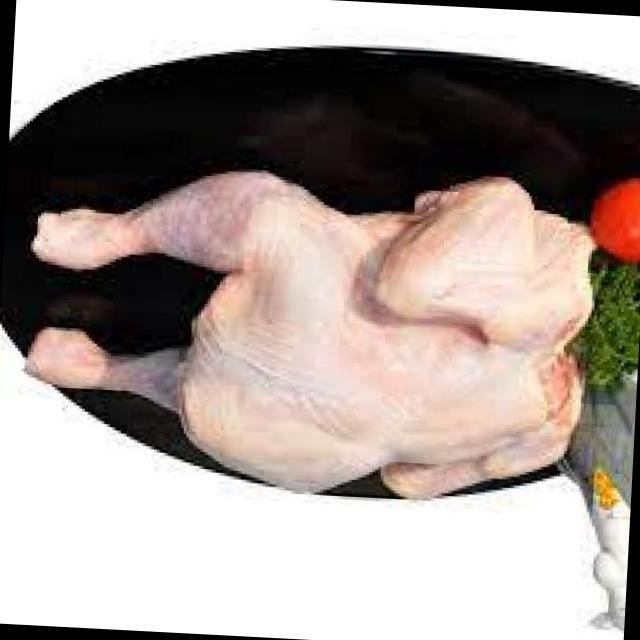chicken: (14, 148, 615, 526)
